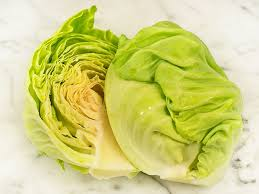cabbage: (102, 19, 248, 187), (27, 19, 149, 181)
